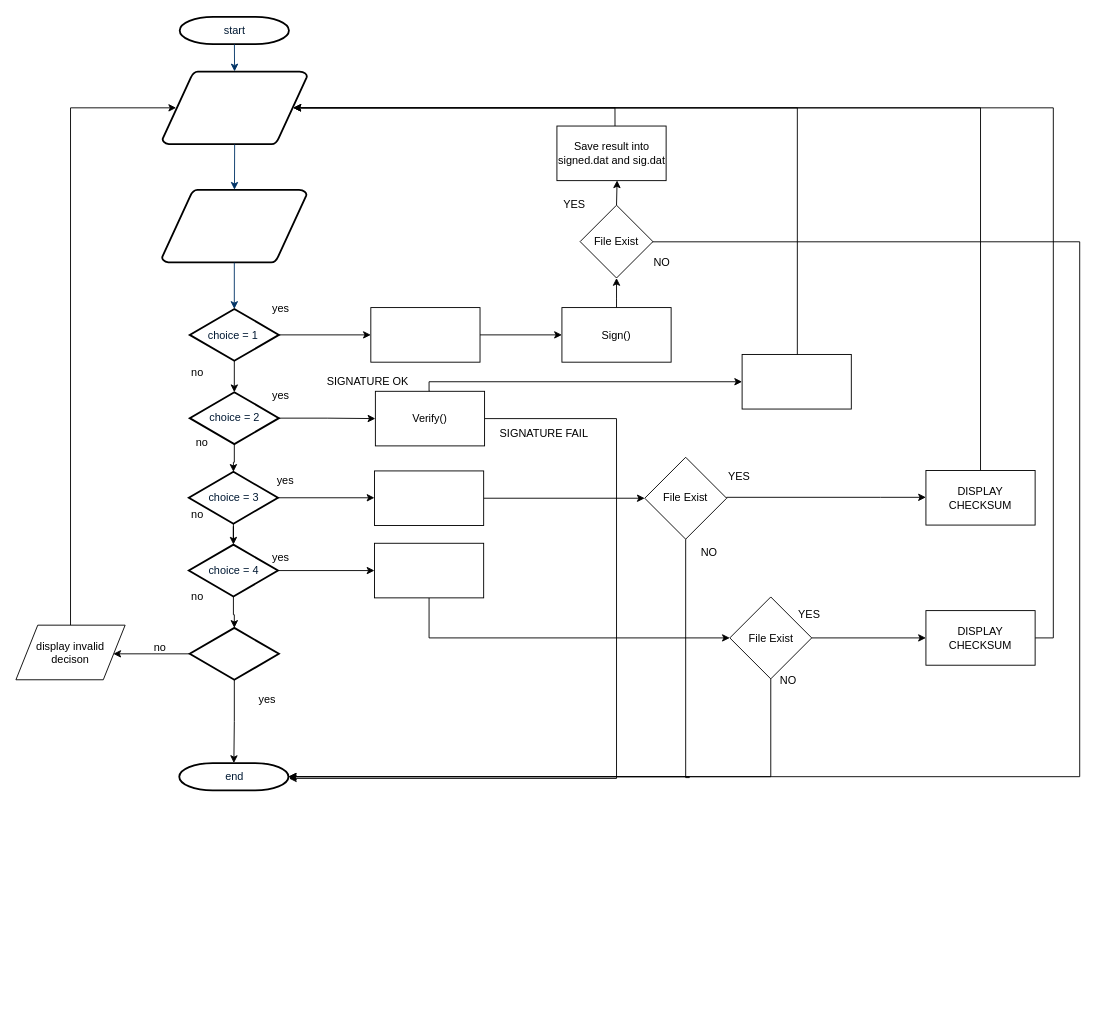
Some shapes in this 1103 by 1028 pixel diagram are drawn without their labels. The shapes that lost their labels are listed below. From the top down, each one's centre as x and y in pixels, then its label:
At [234,107]: "Display Menu".
At [234,225]: "Read choice".
At [425,334]: "GenKeyPair()".
At [796,381]: "DISPLAY PLAINTEXT".
At [429,498]: "MD5FILE()".
At [429,570]: "SHA1FILE()".
At [233,653]: "choice = 5".
